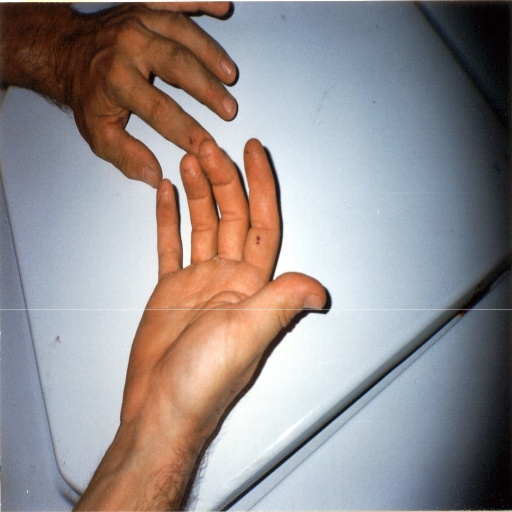hand: (120, 135, 327, 433), (68, 0, 237, 190)
